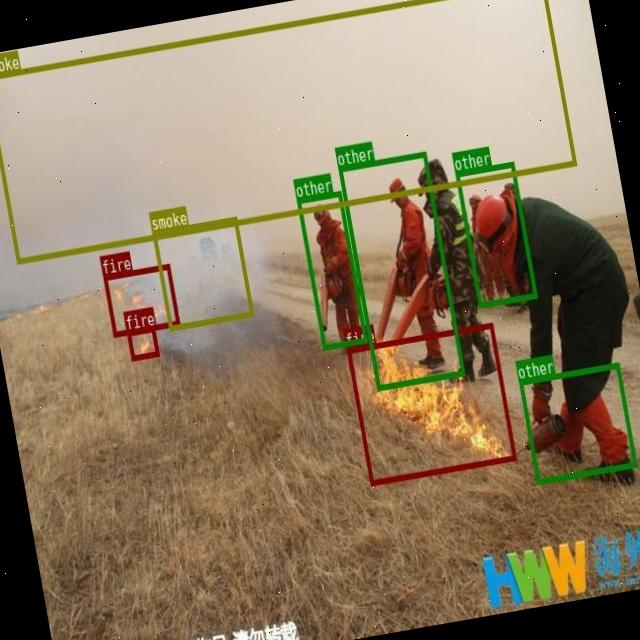fire: (345, 321, 515, 485), (103, 263, 180, 336), (125, 325, 158, 359)
smoke: (0, 0, 576, 264), (151, 216, 253, 330)
